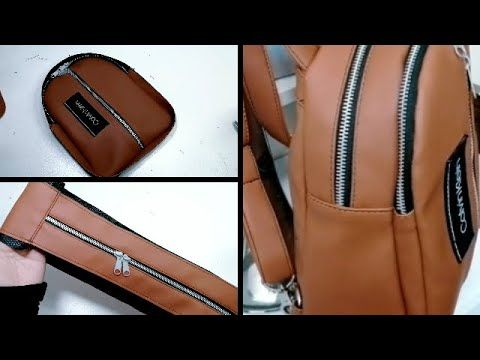cuero: (1, 46, 480, 314)
